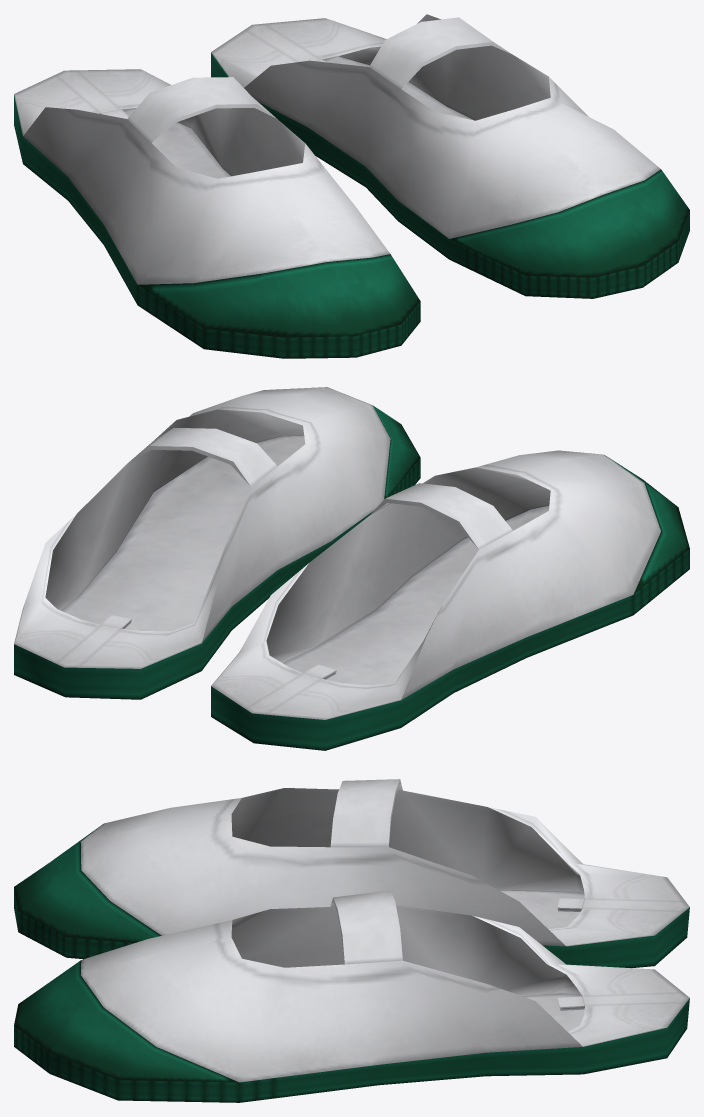
The model's file is set_indoorshoes_02_b.fbx.
3 views of the same model, one above another, from view 1: azimuth 30°, elevation 25°; view 2: azimuth 150°, elevation 25°; view 3: azimuth 270°, elevation 25° (orthographic).
Parts seen in each view (by area): view 1: indoorshoes_02_b_L, indoorshoes_02_b_R; view 2: indoorshoes_02_b_R, indoorshoes_02_b_L; view 3: indoorshoes_02_b_L, indoorshoes_02_b_R.
Part boxes in pixels (left/top/right/bottom): indoorshoes_02_b_L: left=211, top=14, right=689, bottom=298; indoorshoes_02_b_R: left=14, top=69, right=420, bottom=358; indoorshoes_02_b_R: left=211, top=450, right=689, bottom=750; indoorshoes_02_b_L: left=14, top=387, right=420, bottom=699; indoorshoes_02_b_L: left=14, top=890, right=689, bottom=1102; indoorshoes_02_b_R: left=14, top=779, right=689, bottom=967.
Bounding box in the file's own units: 21.31 × 5.65 × 25.41.
